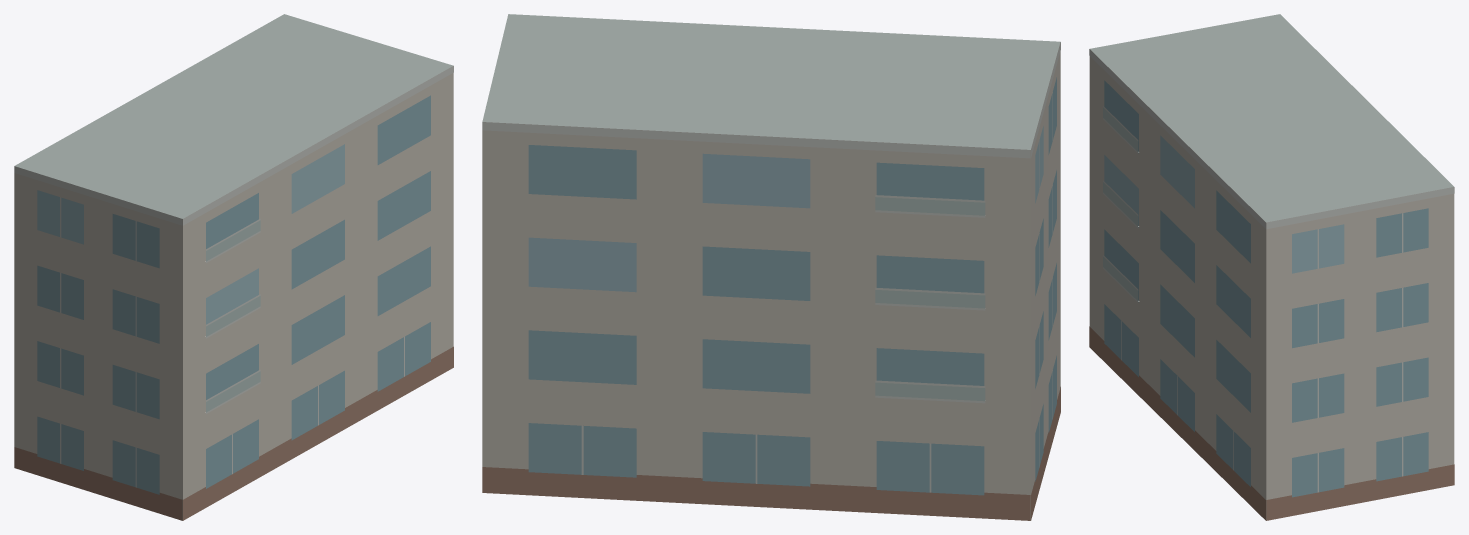
Rendered from survey-upis-32944732.glb.
The picture shows the model from 3 angles, left to right: view 1: azimuth 30°, elevation 25°; view 2: azimuth 150°, elevation 25°; view 3: azimuth 270°, elevation 25°; orthographic projection. The views are drawn at different scales.
Visible parts, largest first — view 1: survey-upis-32944732.tmp; view 2: survey-upis-32944732.tmp; view 3: survey-upis-32944732.tmp.
Part boxes in pixels (x1,y1,x2,y2): survey-upis-32944732.tmp: (14,14,453,520); survey-upis-32944732.tmp: (482,14,1060,520); survey-upis-32944732.tmp: (1089,14,1454,520).
Size of the model in its own units: 16.05 by 10.7 by 11.87.
